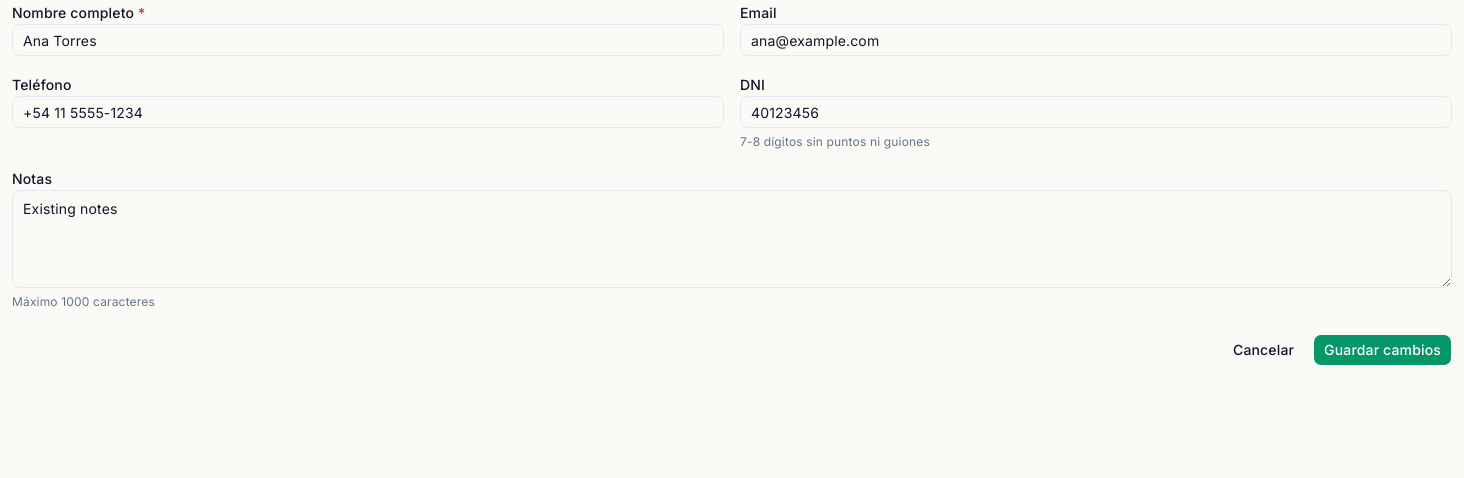
Test: PatientForm — client-side validation › shows 'Email inválido' when email format is invalid
Replace the text in the field labelled "Email" with "bad-email" at [1096, 40], box [740,24,1452,56]
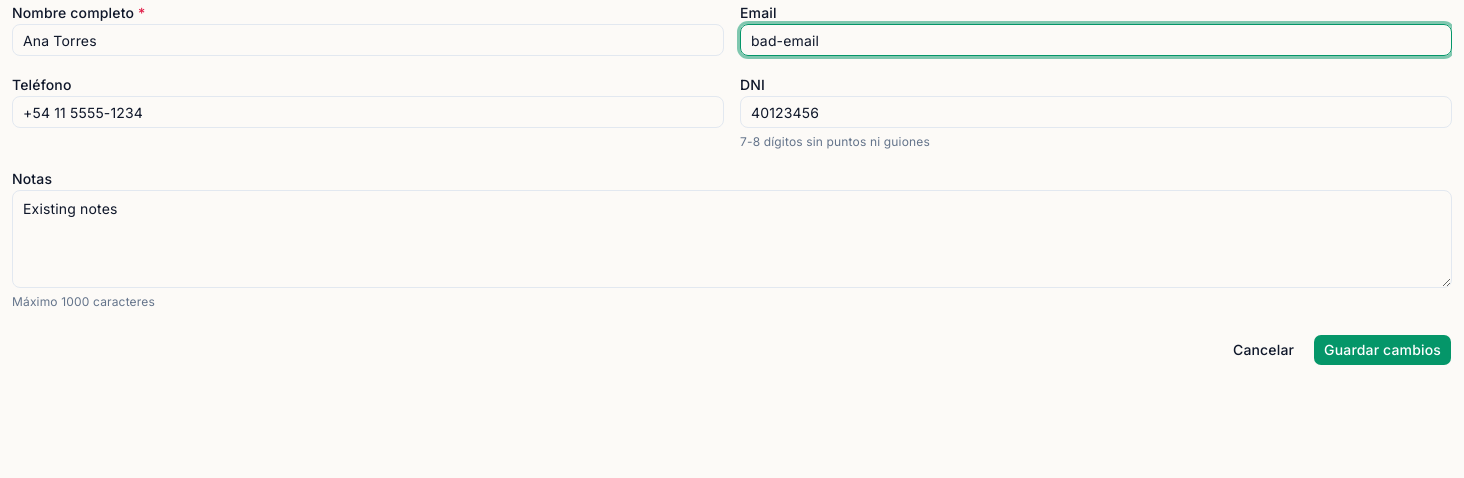
Click the button "Guardar cambios" at [1383, 350], box [1313,334,1452,366]
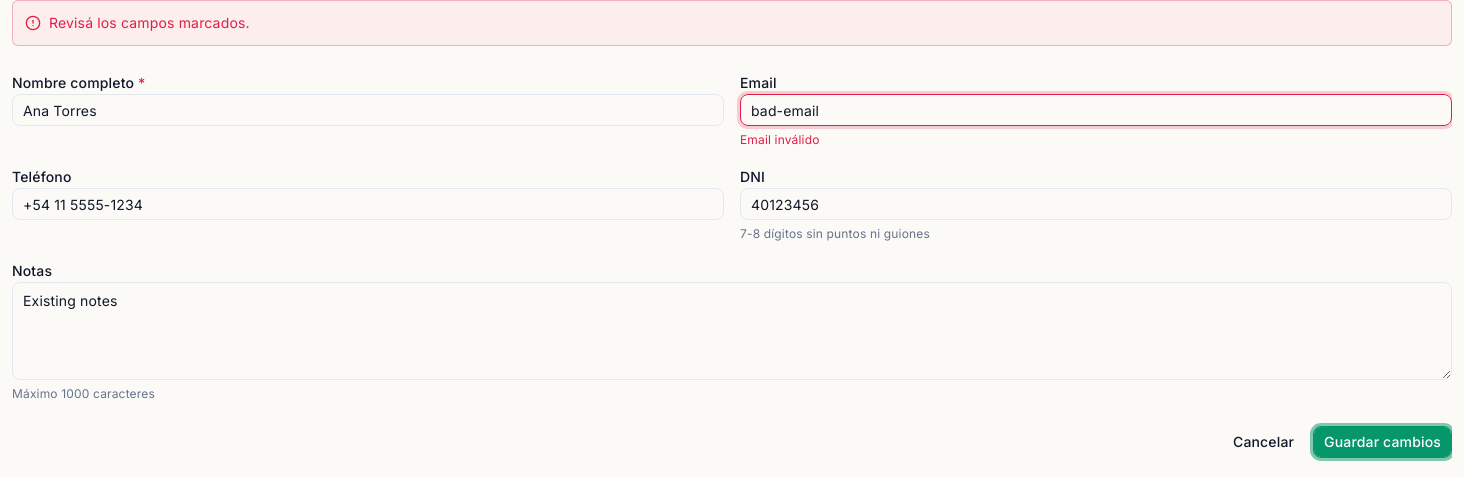
Check: the text "Email inválido" is shown, box [740,132,820,147]
